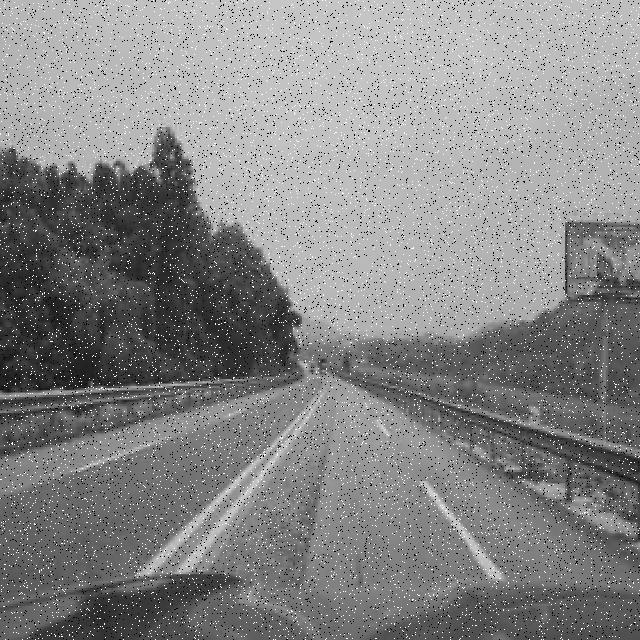clear-road: (0, 375, 640, 604)
